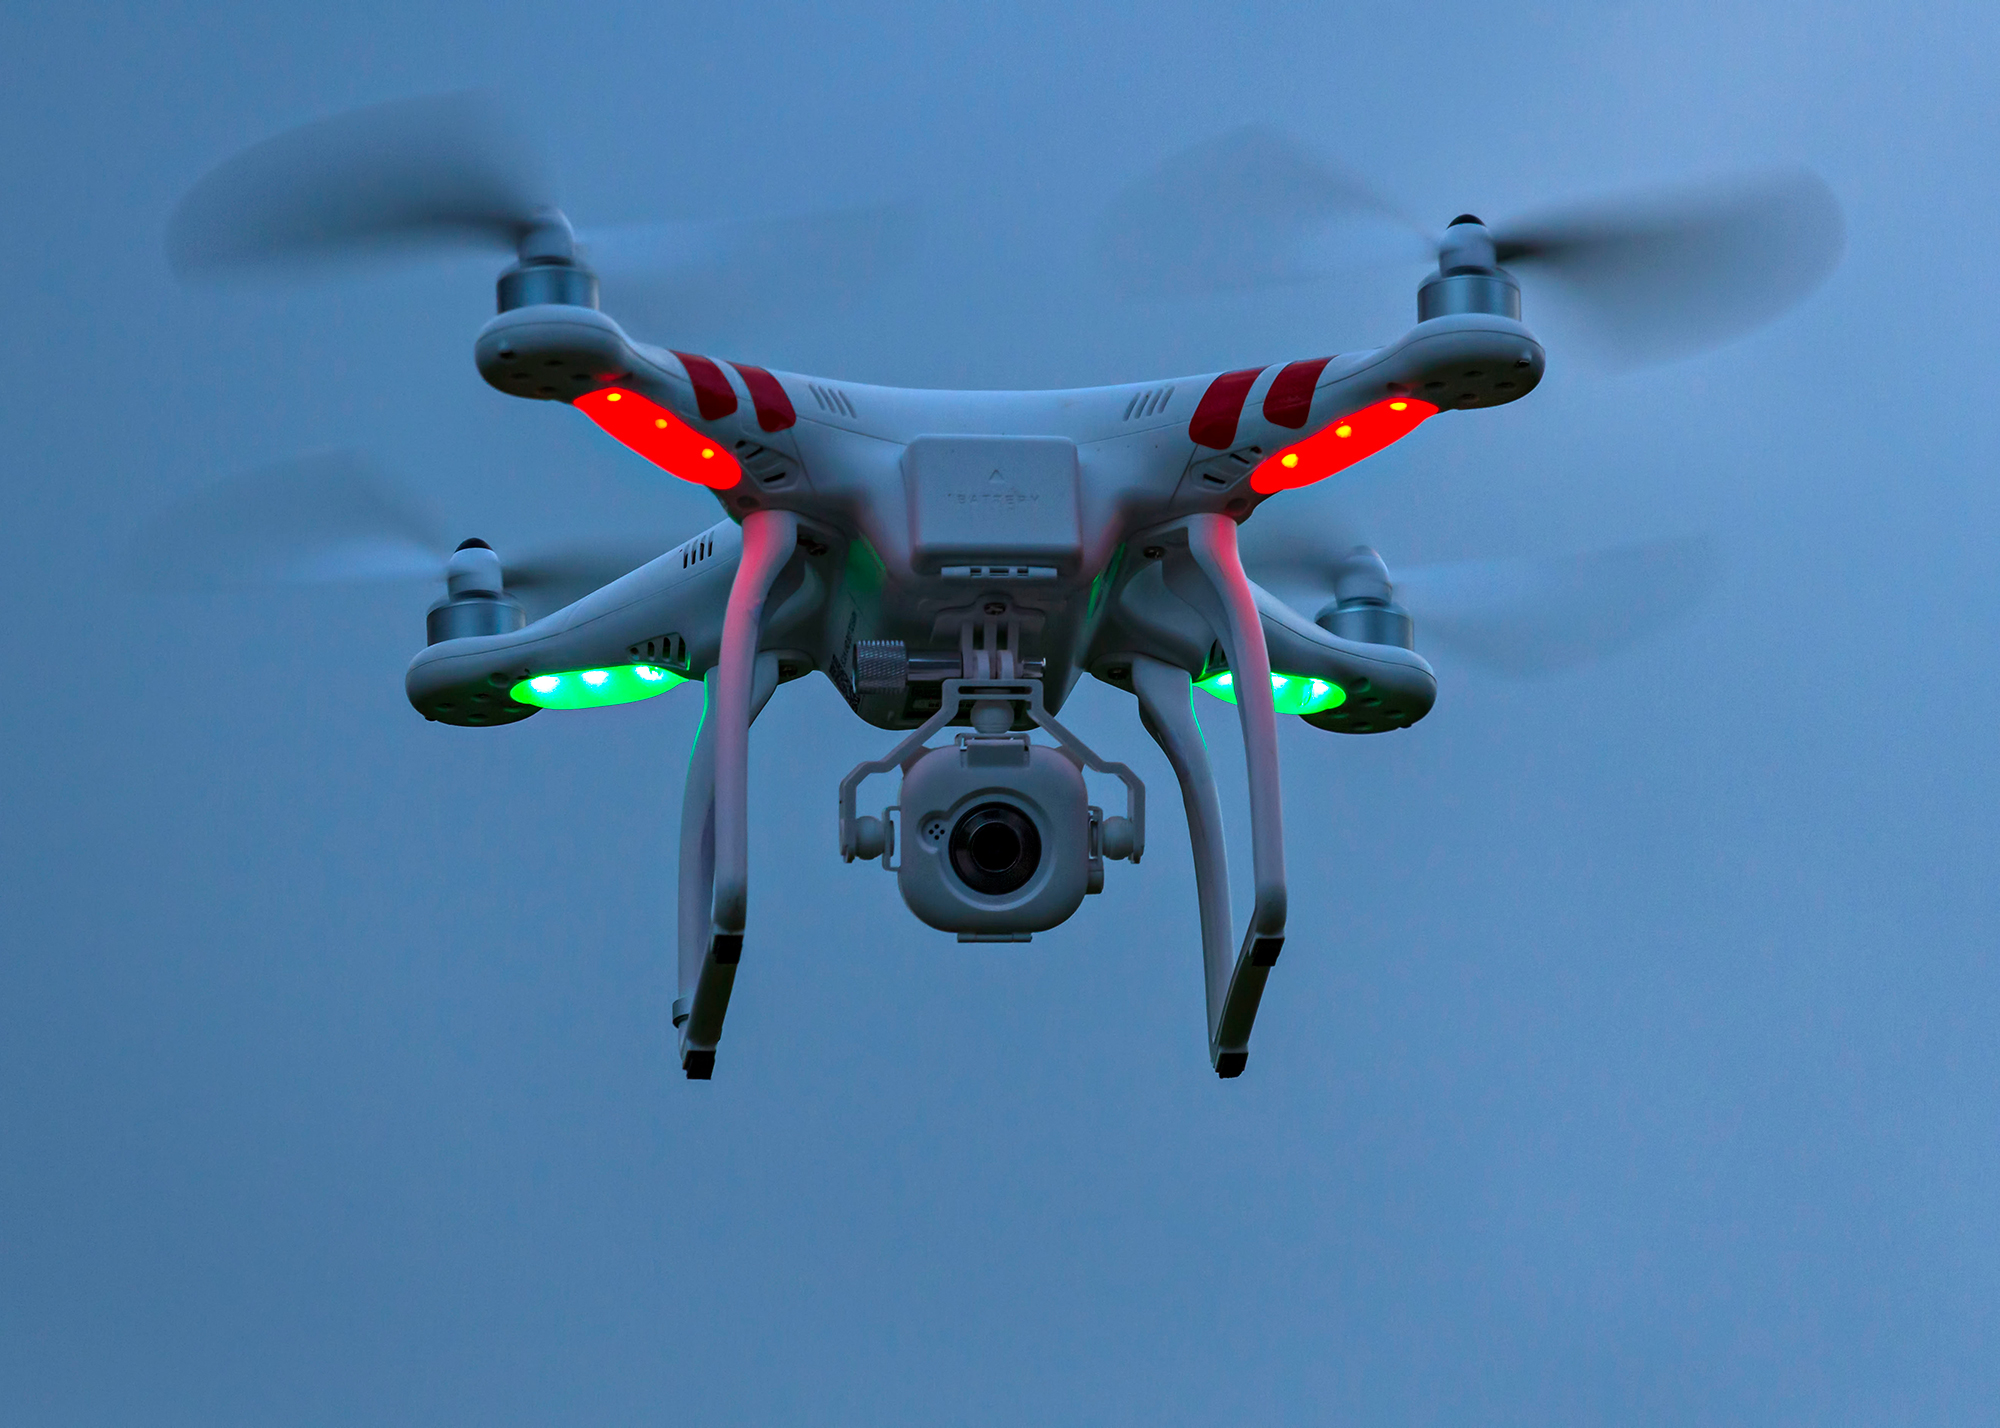drone: (127, 74, 1849, 1096)
